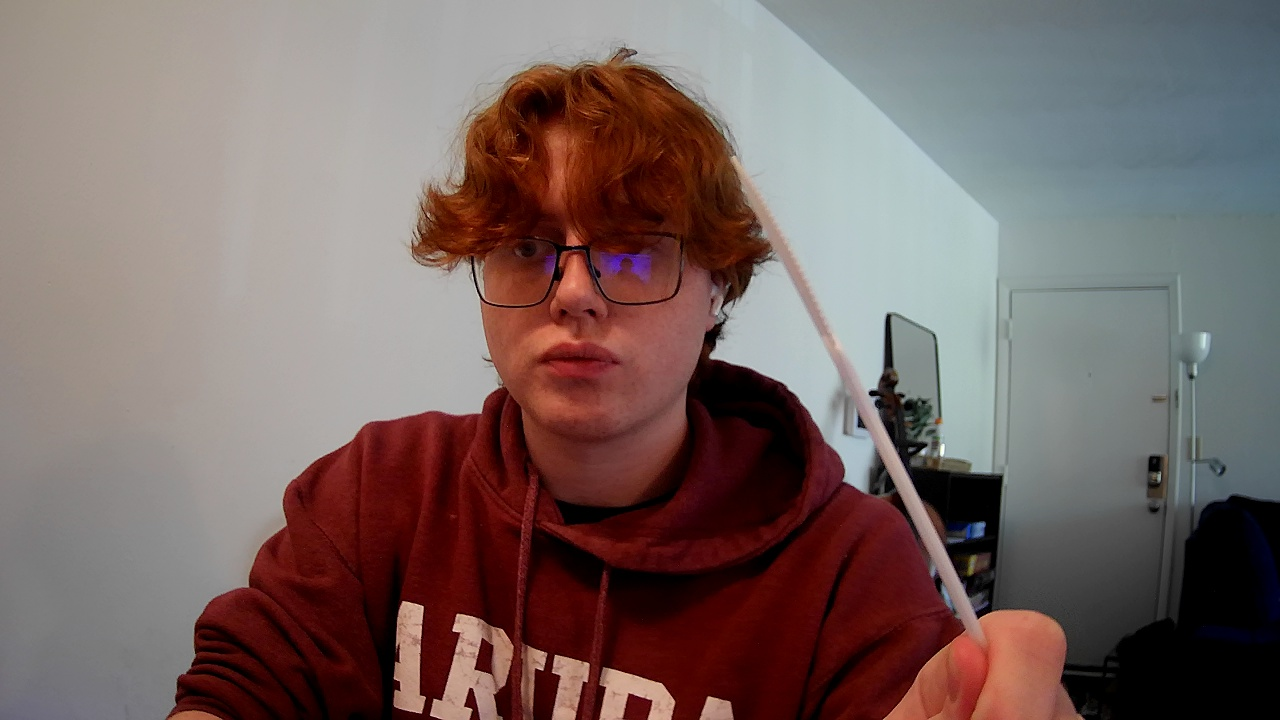trash: (724, 131, 1031, 670)
